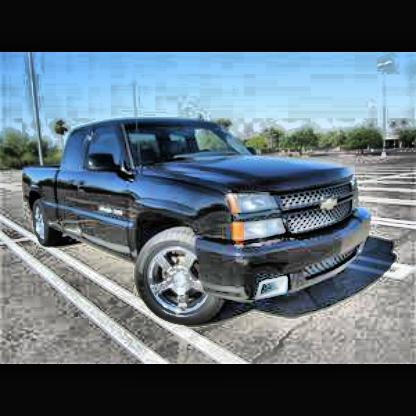Chevrolet Silverado 1500 Classic Extended Cab 2007: (22, 113, 376, 327)
